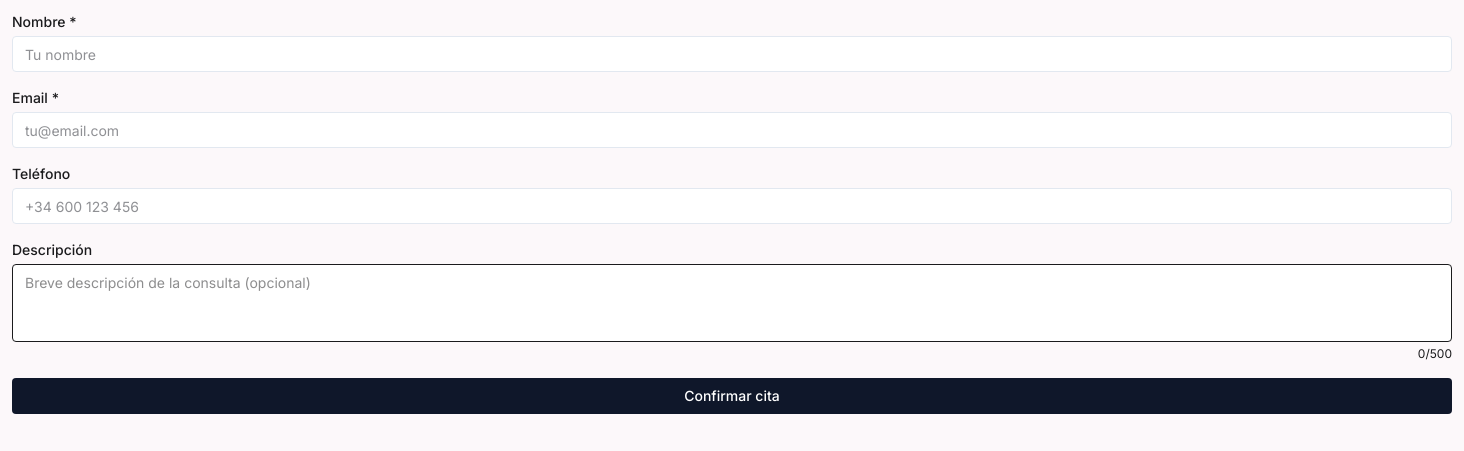
BookingForm › shows email format error for invalid email
The width and height of the screenshot is (1464, 451).
Type "Juan Pérez" into the field labelled "Nombre *" at {"x": 732, "y": 54}, box [12,36,1452,72]
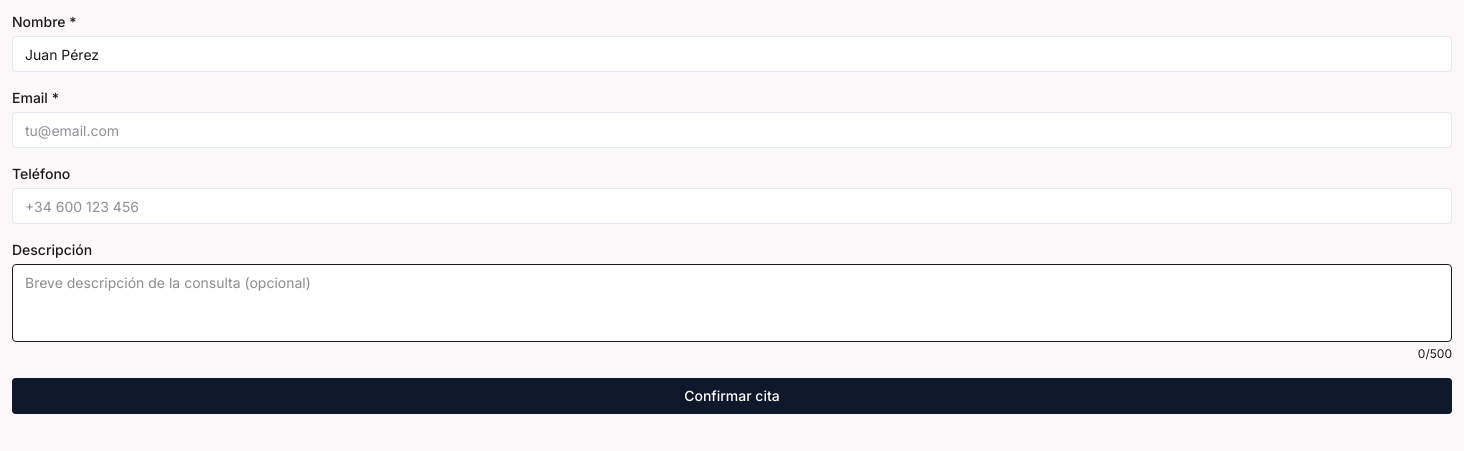
Type "email-invalido" into the field labelled "Email *" at {"x": 732, "y": 130}, box [12,112,1452,148]
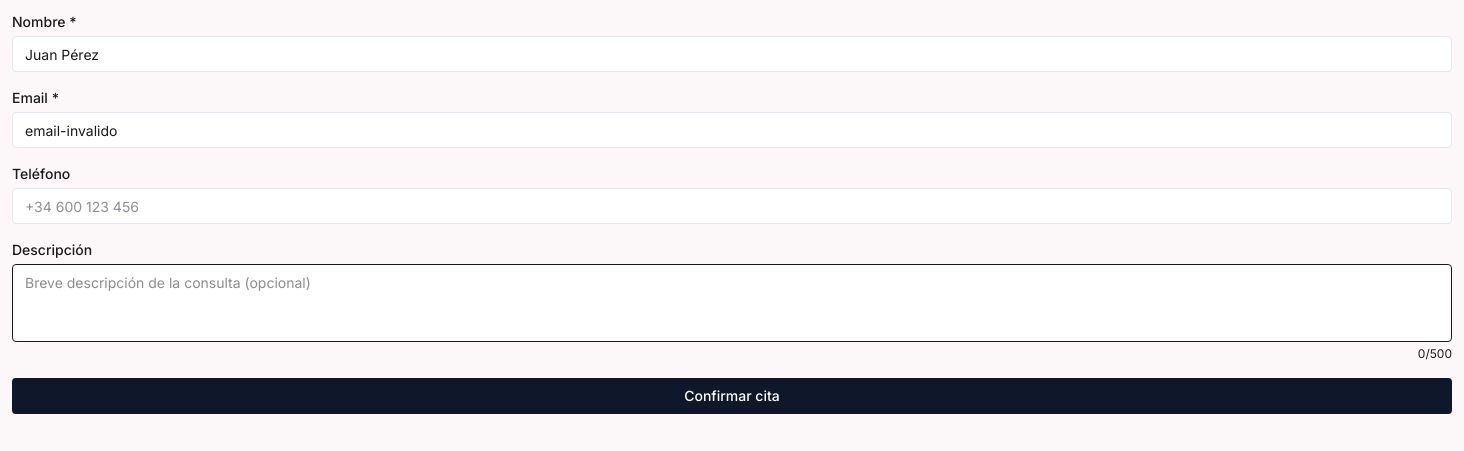
Click the button "Confirmar cita" at {"x": 732, "y": 396}, box [12,378,1452,414]
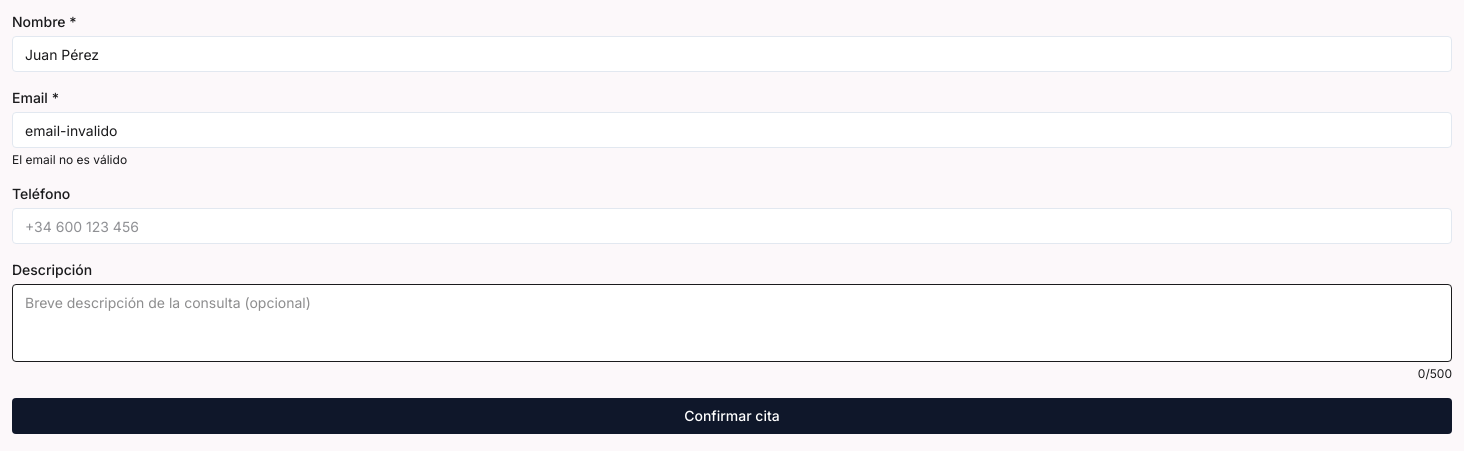
expect the text "El email no es válido" is shown: met, box [12,152,127,167]
